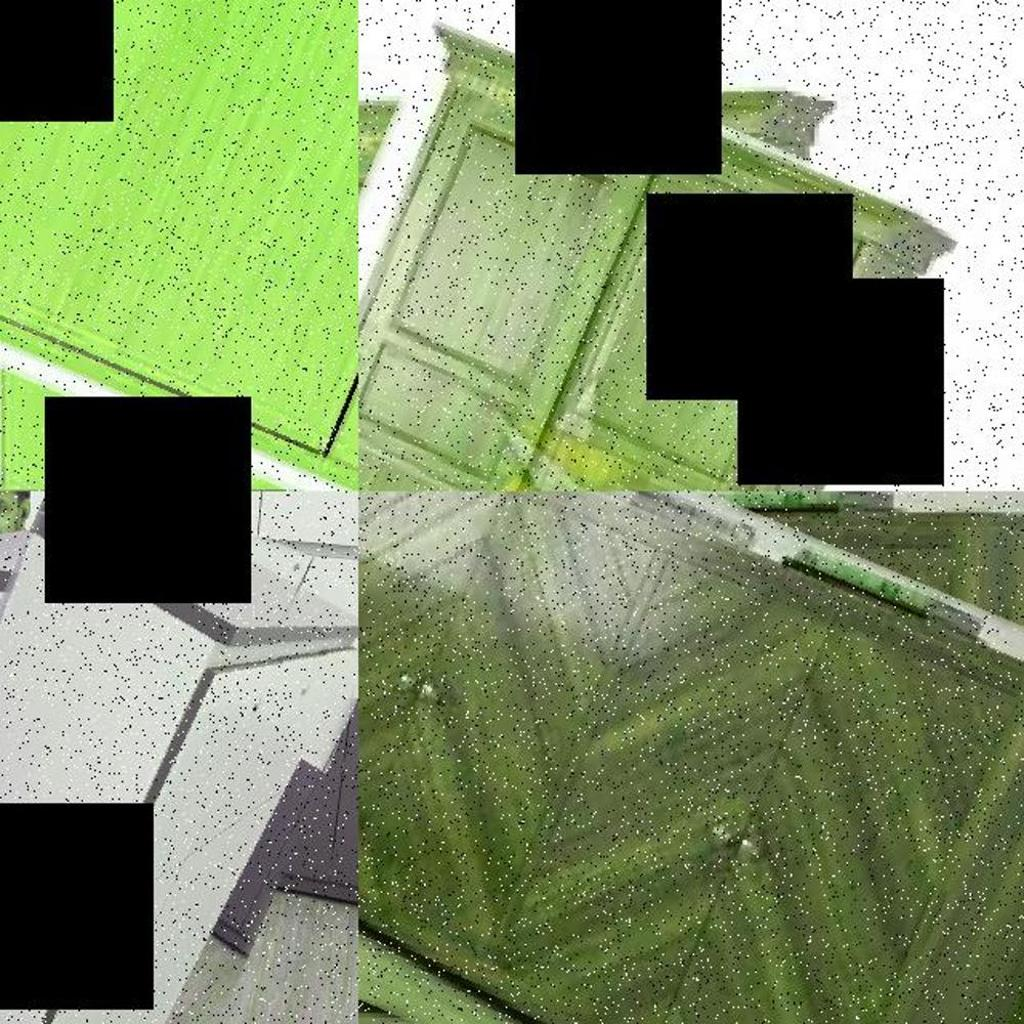cabinet: (358, 491, 1024, 1024), (358, 43, 896, 491), (0, 0, 358, 491), (0, 491, 325, 1024)
